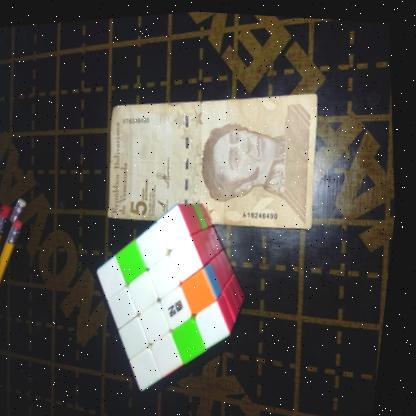five-front-vef: (93, 74, 337, 251)
